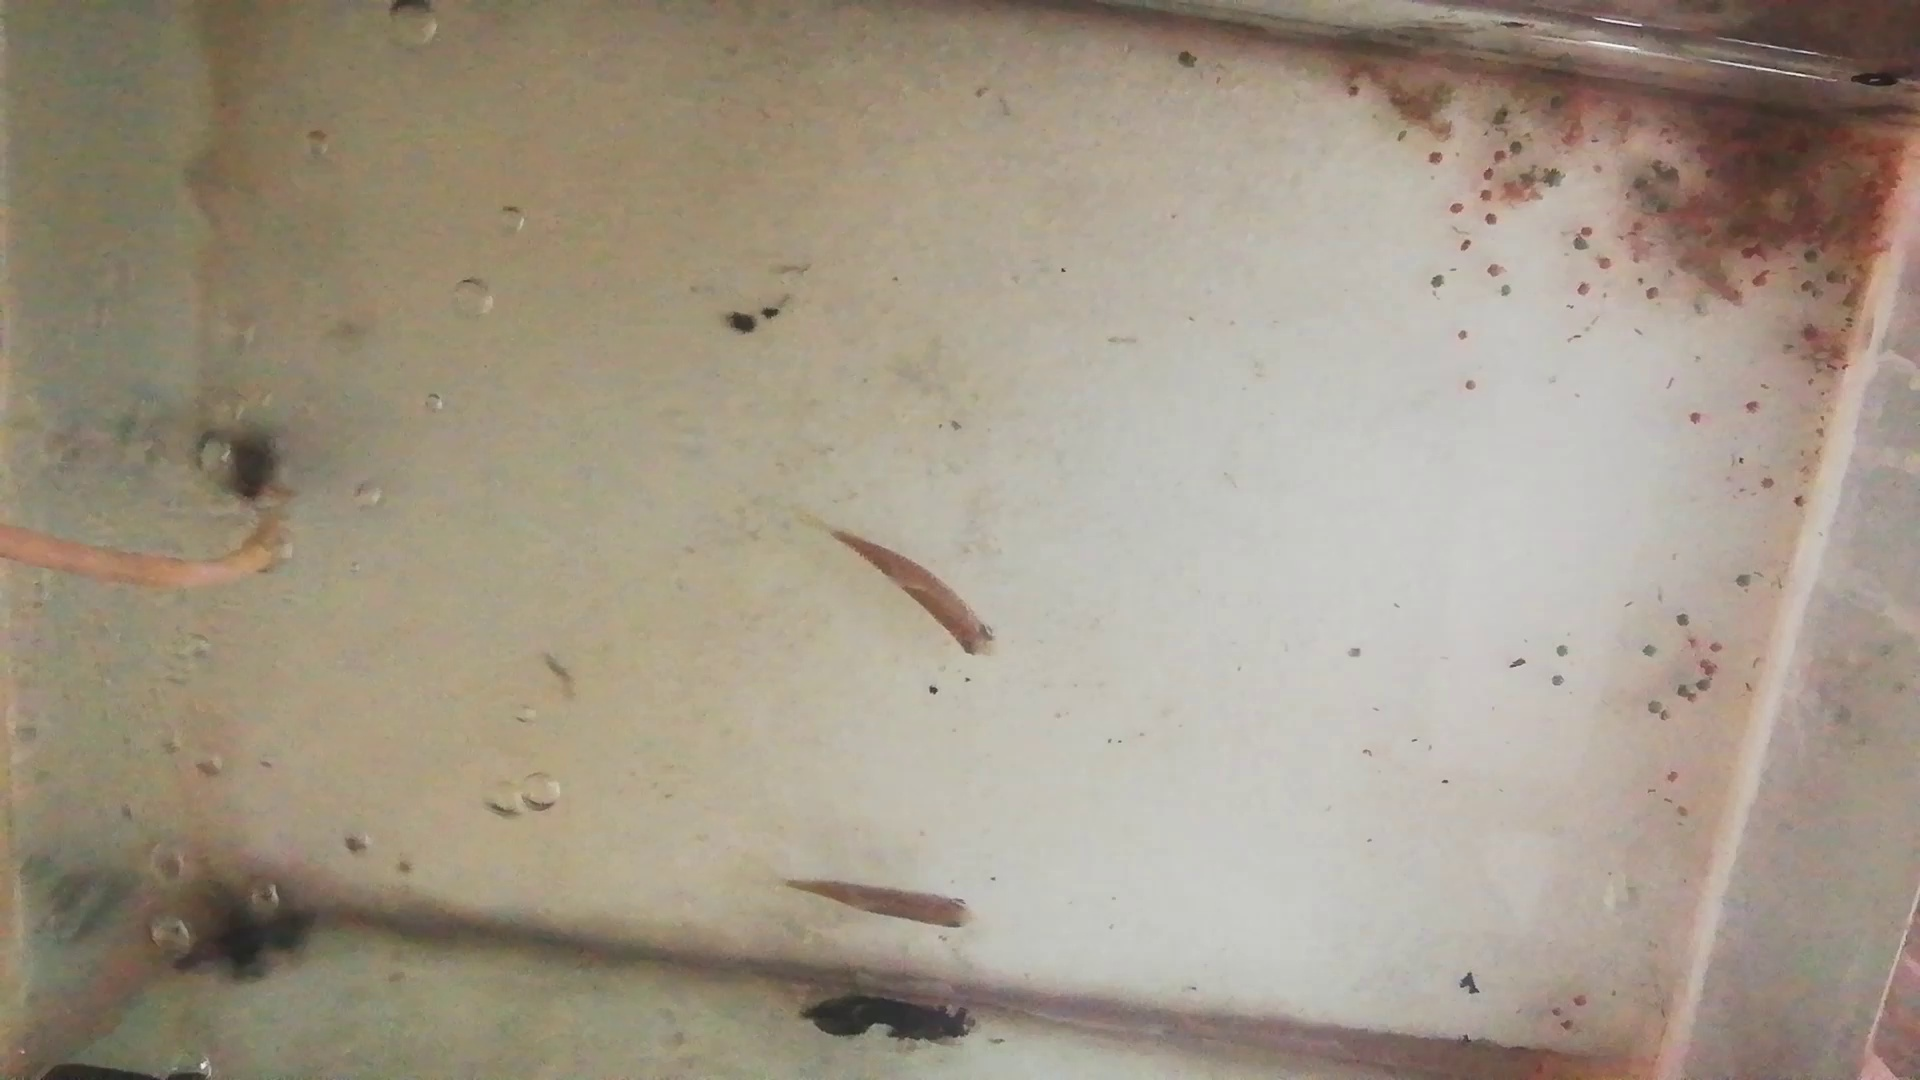fish: (832, 530, 997, 662), (781, 877, 977, 934)
